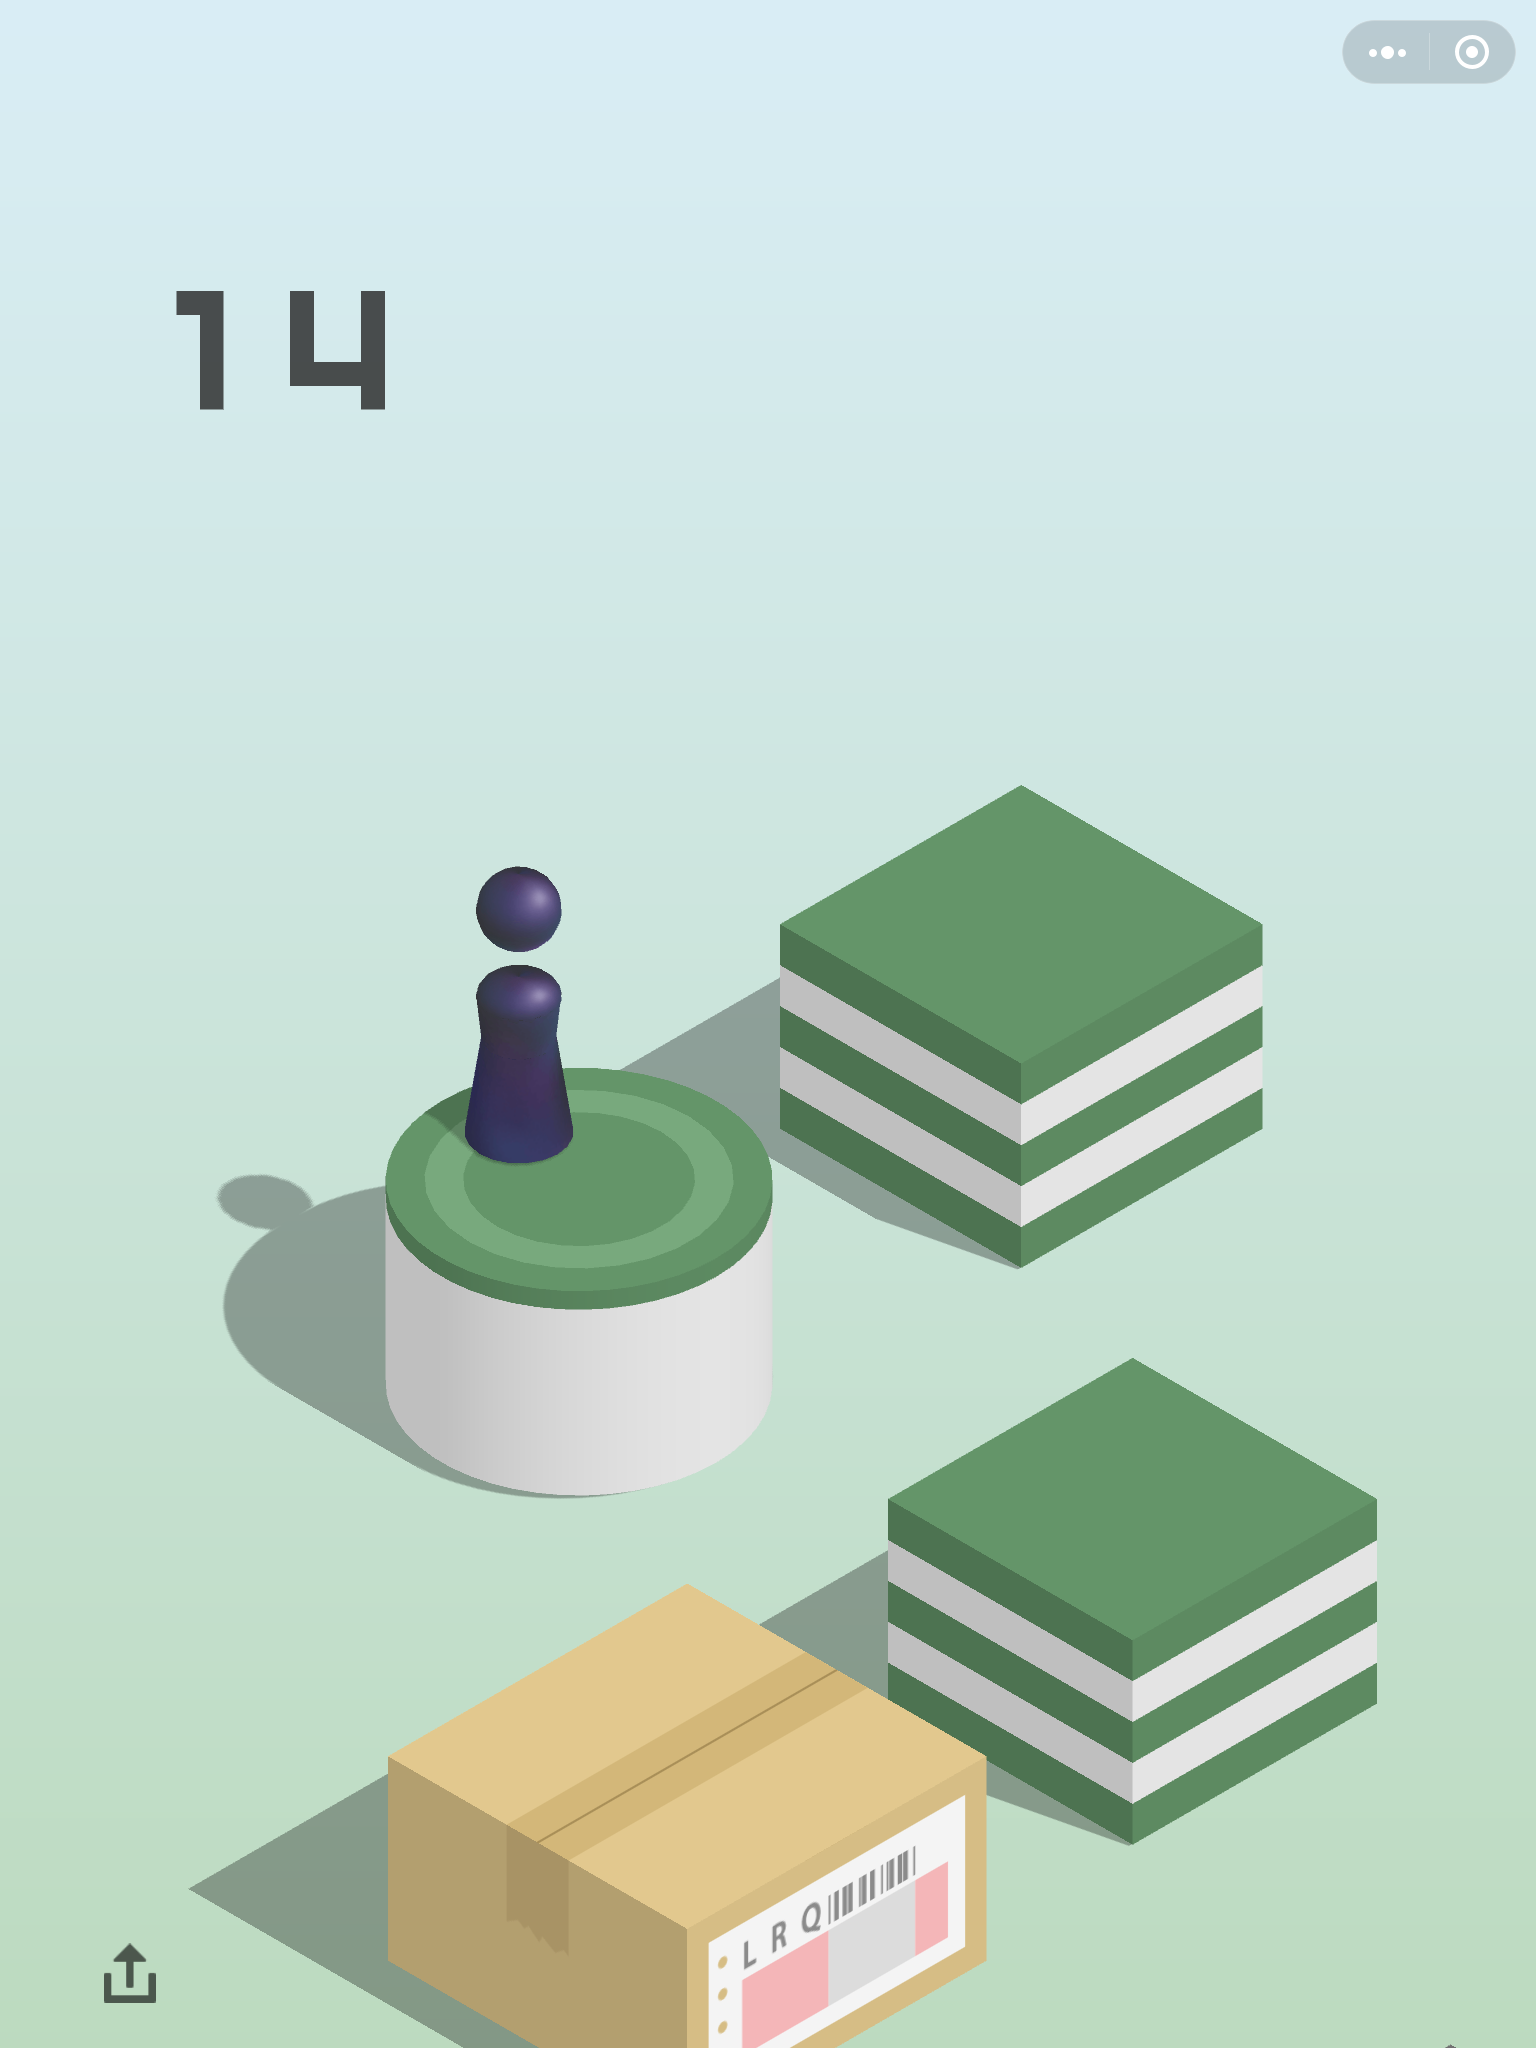c: (378, 1059, 783, 1509)
f: (382, 1584, 992, 2048), (773, 772, 1279, 1284), (883, 1351, 1383, 1856)
r: (458, 856, 582, 1169)
